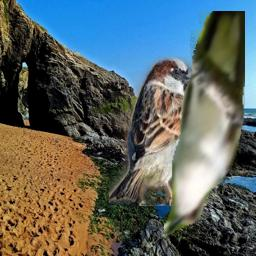Cuckoo: (164, 11, 245, 235)
Sparrow: (109, 56, 199, 206)
